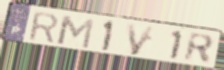1: (99, 19, 115, 53), (169, 30, 184, 62)
M: (56, 13, 96, 50)
R: (182, 31, 216, 66), (28, 10, 59, 45)
V: (125, 22, 157, 58)
